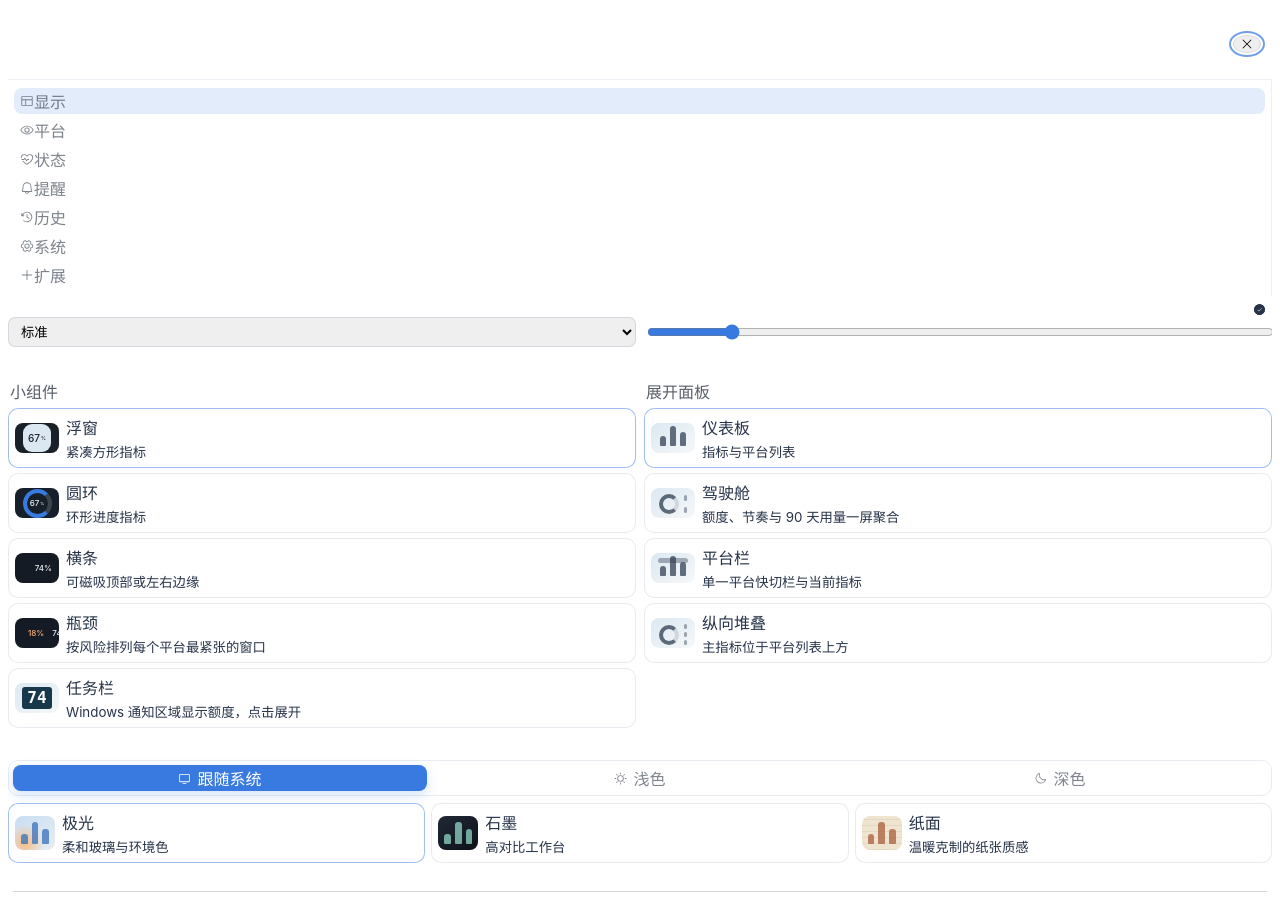
Test: ControlCenter provider health › localizes the independent Providers tab in Chinese
This screenshot has width=1280, height=900.
Click the button "平台" at (50, 131), box [14,117,1265,143]
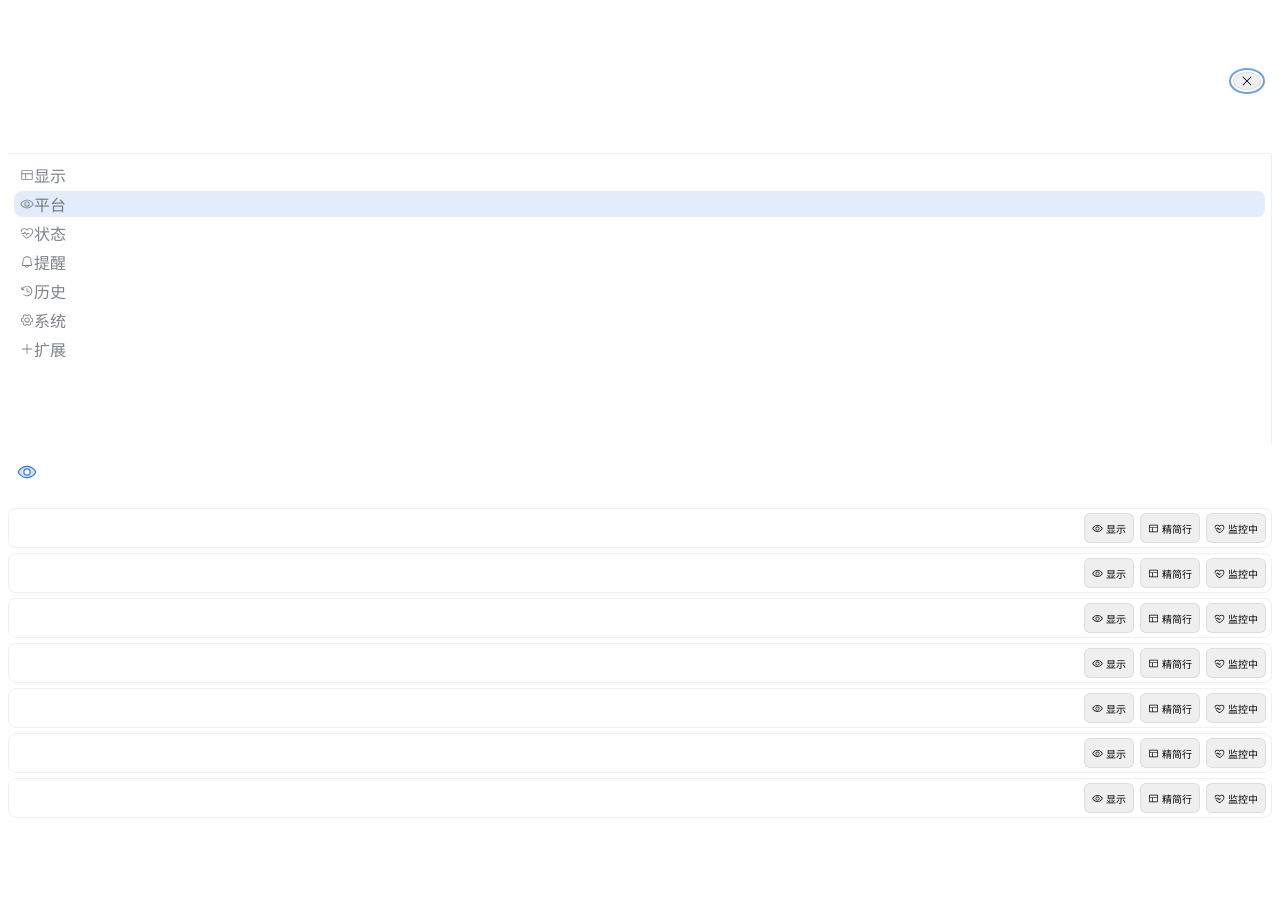
Check: the number of buttons "监控中" is 7
